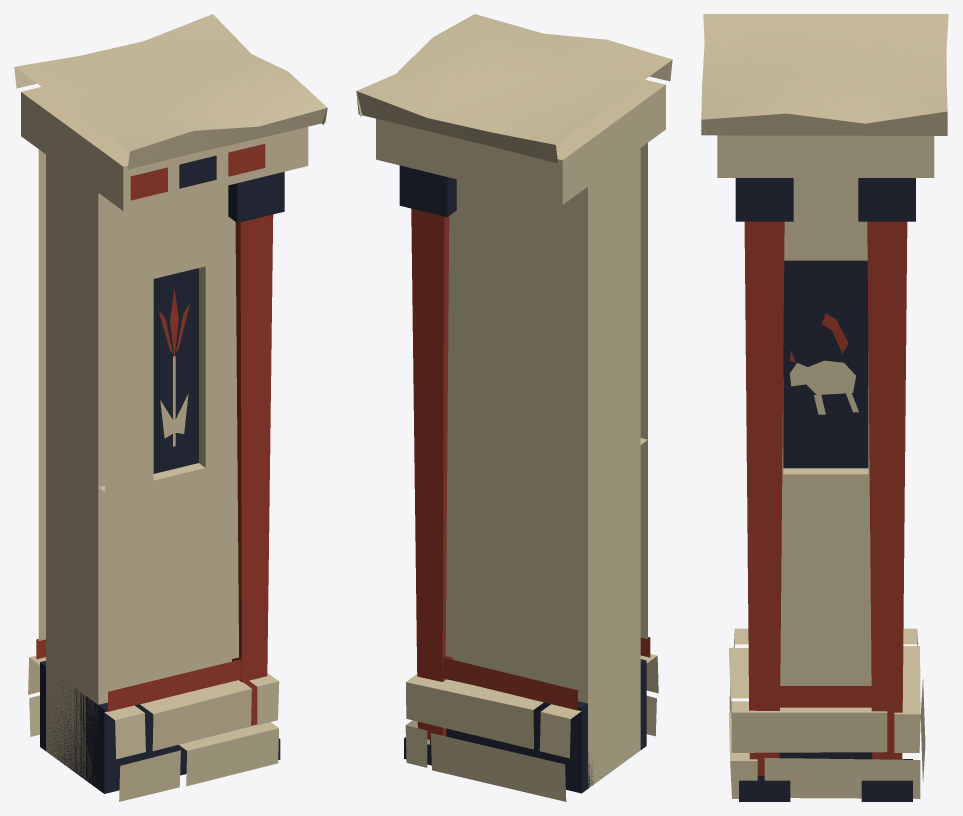
File: gallery-end.glb
The picture shows the model from 3 angles, left to right: view 1: azimuth 30°, elevation 25°; view 2: azimuth 150°, elevation 25°; view 3: azimuth 270°, elevation 25°; orthographic projection. The views are drawn at different scales.
Parts seen in each view (by area): view 1: gallery-end; view 2: gallery-end; view 3: gallery-end.
Part boxes in pixels (x1,y1,x2,y2): gallery-end: (14, 14, 327, 801); gallery-end: (356, 14, 672, 801); gallery-end: (701, 14, 948, 801).
Size of the model in its own units: 1.03 by 3.3 by 1.05.
